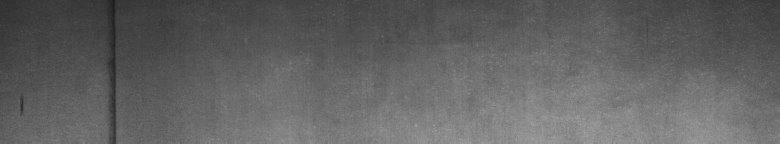hd: (100, 4, 124, 136)
